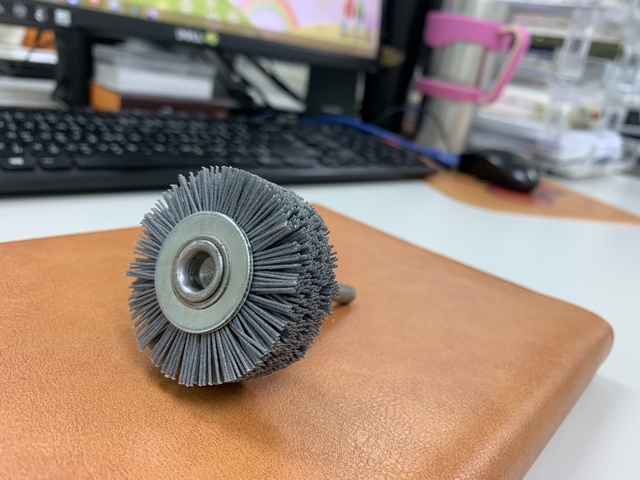Wheel Brush: (114, 160, 379, 370), (136, 159, 369, 388)
